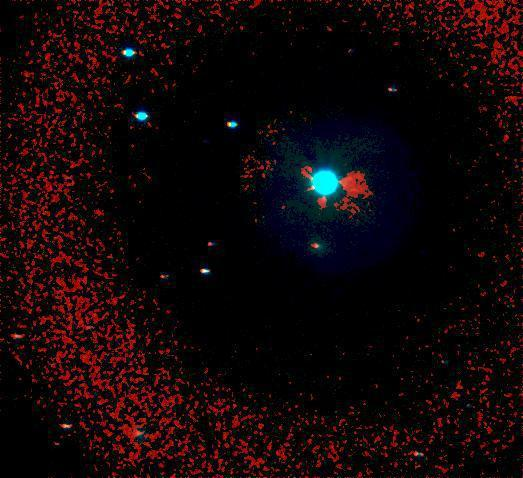star: (95, 243, 125, 273)
